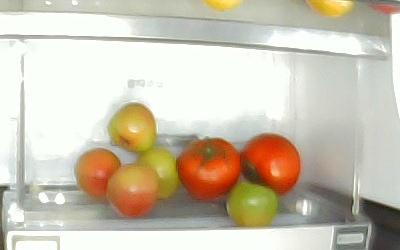tomato: (240, 132, 301, 197), (176, 137, 239, 198), (105, 162, 158, 218), (75, 147, 123, 197), (226, 181, 279, 226), (108, 103, 156, 152), (137, 147, 178, 202)
